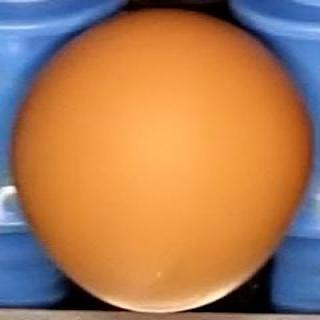Telur: (8, 9, 312, 313)
